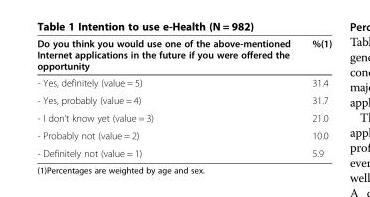table: (36, 37, 331, 158)
table column: (36, 37, 300, 158), (300, 37, 331, 158)
table column header: (36, 37, 331, 74)
table row: (36, 37, 331, 74), (36, 108, 331, 126), (36, 126, 331, 144), (36, 74, 331, 91), (36, 91, 331, 108), (36, 144, 331, 158)
